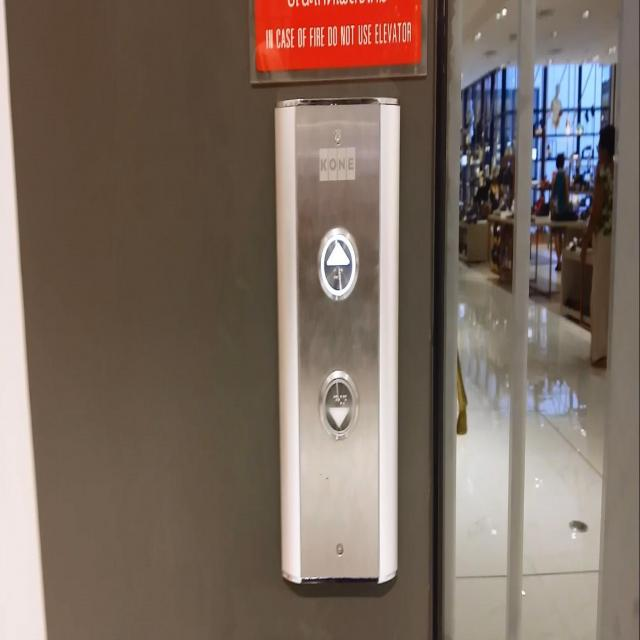down: (317, 369, 358, 440)
up: (317, 225, 359, 301)
